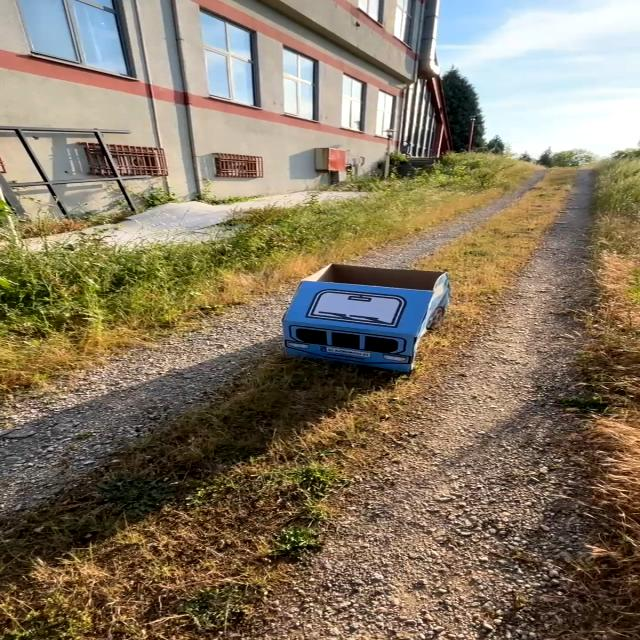blue_car: (228, 235, 489, 429)
